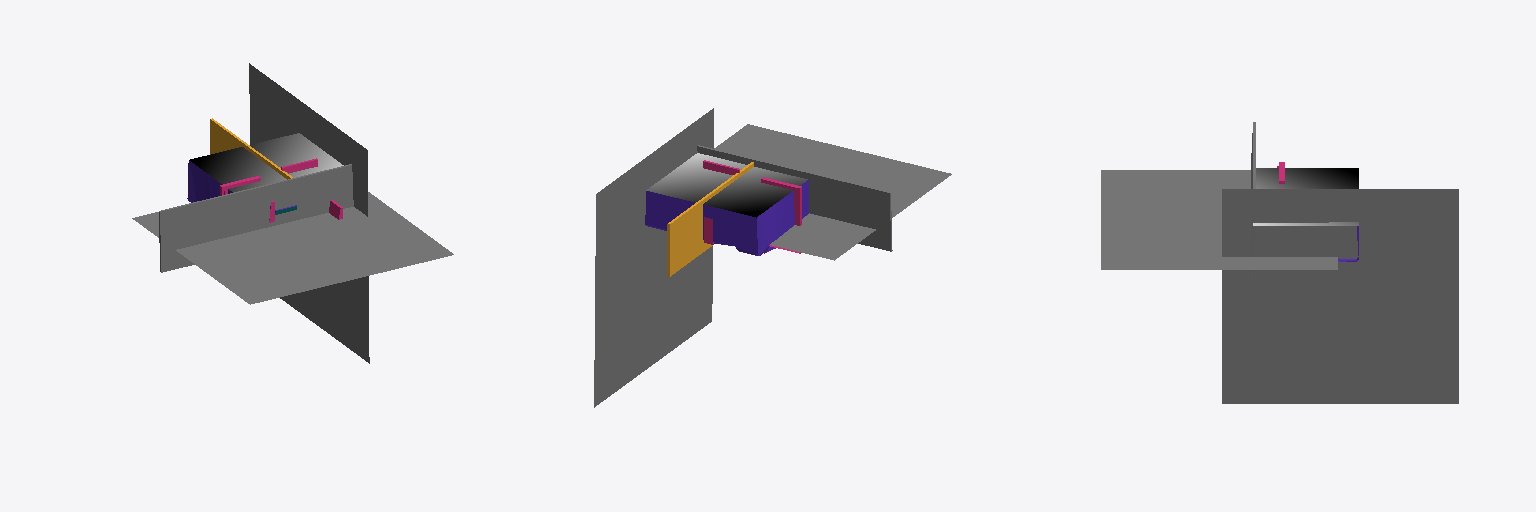
3 renders of one model, left to right at view 1: azimuth 30°, elevation 25°; view 2: azimuth 150°, elevation 25°; view 3: azimuth 270°, elevation 25°, orthographic.
Visible parts, largest first — view 1: Cube.004_Cube.012, Cube_Cube.001; view 2: Cube.004_Cube.012, Cube_Cube.001; view 3: Cube.004_Cube.012.
Part boxes in pixels (bbox=[...]): Cube.004_Cube.012: bbox=[132, 63, 453, 363]; Cube_Cube.001: bbox=[210, 118, 292, 179]; Cube.004_Cube.012: bbox=[594, 108, 951, 407]; Cube_Cube.001: bbox=[667, 162, 753, 276]; Cube.004_Cube.012: bbox=[1101, 122, 1458, 403].
Size of the model in its own units: 174 by 163 by 246.
7 materials, 6 textured.